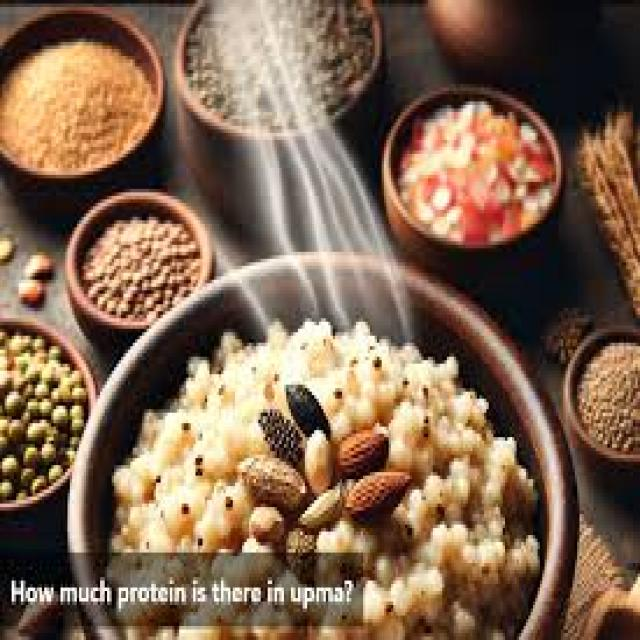UPMA: (109, 318, 540, 637), (0, 325, 84, 497)
